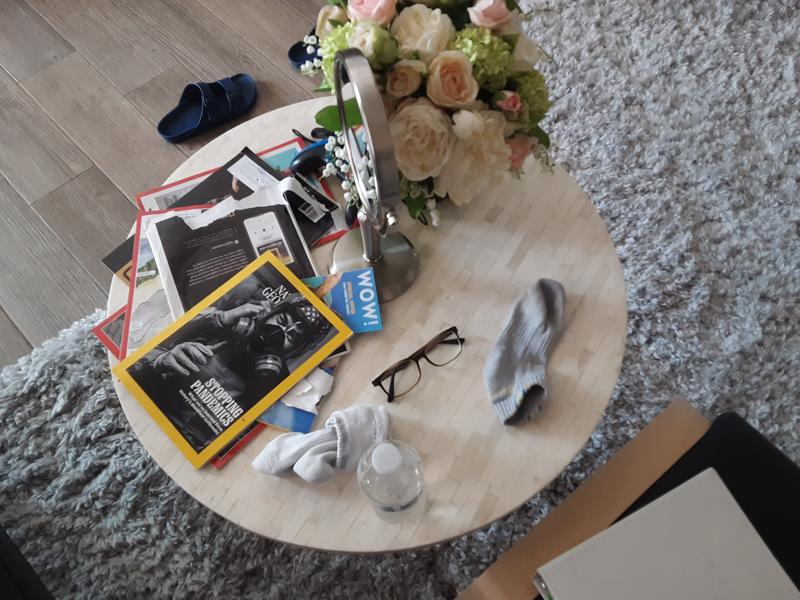glasses: (371, 324, 468, 403)
